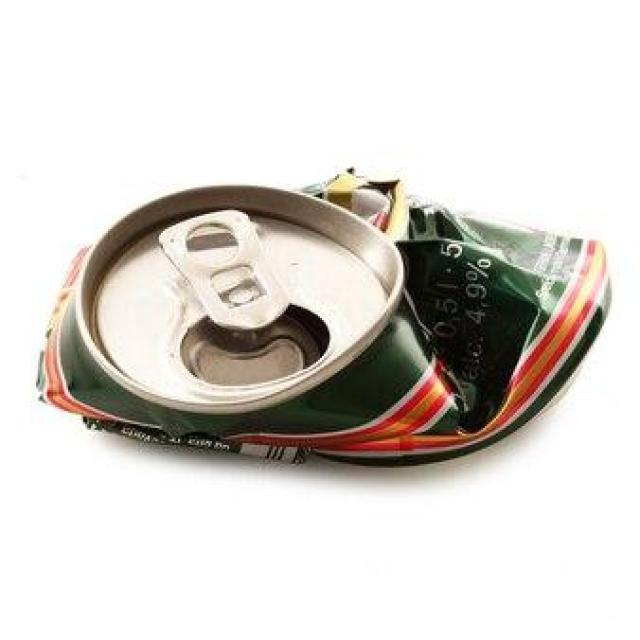can: (32, 165, 612, 471)
pop tab: (161, 208, 290, 330)
